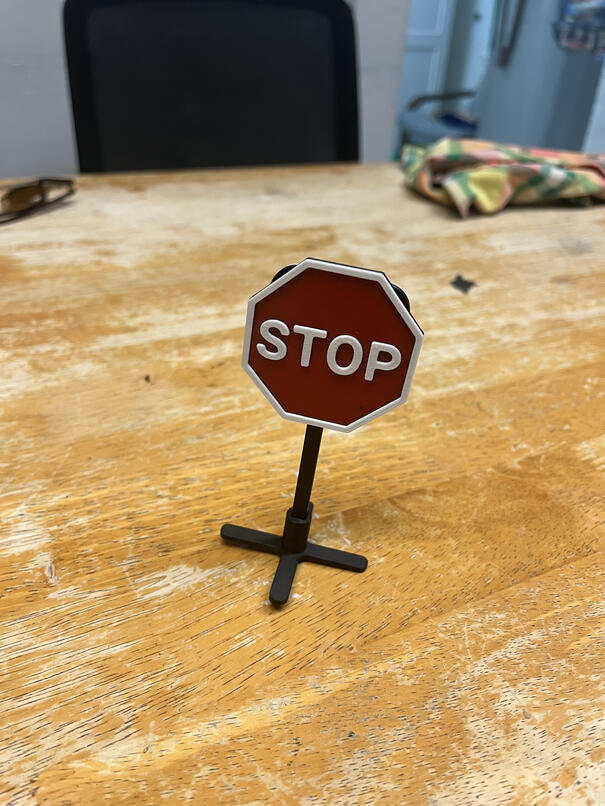sign_stop: (237, 248, 424, 430)
